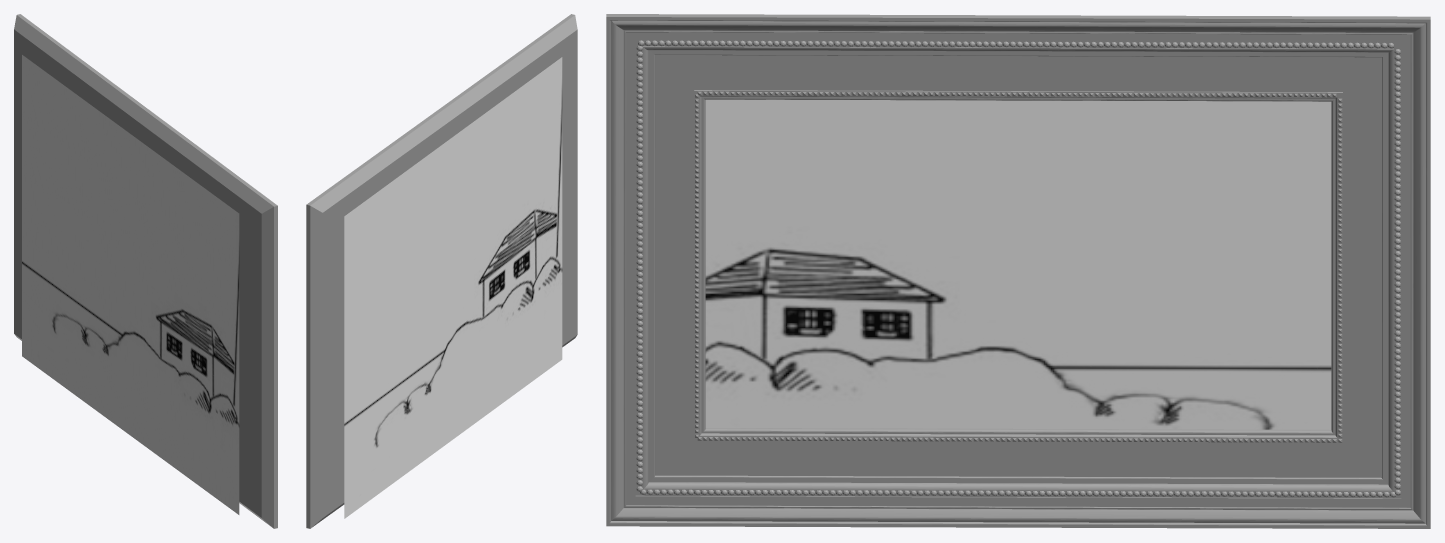
The model's file is pictureframe_house.fbx.
3 views of the same model, side by side, from view 1: azimuth 30°, elevation 25°; view 2: azimuth 150°, elevation 25°; view 3: azimuth 270°, elevation 25° (orthographic). The views are drawn at different scales.
Parts seen in each view (by area): view 1: pPlane6, horizontal_frame1; view 2: pPlane6, horizontal_frame1; view 3: horizontal_frame1, pPlane6.
Part boxes in pixels (bbox=[...]): pPlane6: bbox=[22, 55, 239, 514]; horizontal_frame1: bbox=[14, 14, 277, 528]; pPlane6: bbox=[344, 57, 562, 518]; horizontal_frame1: bbox=[306, 14, 577, 528]; horizontal_frame1: bbox=[606, 14, 1430, 528]; pPlane6: bbox=[705, 99, 1331, 429].
Bounding box in the file's own units: 0.6783 × 11.6 × 16.95.
